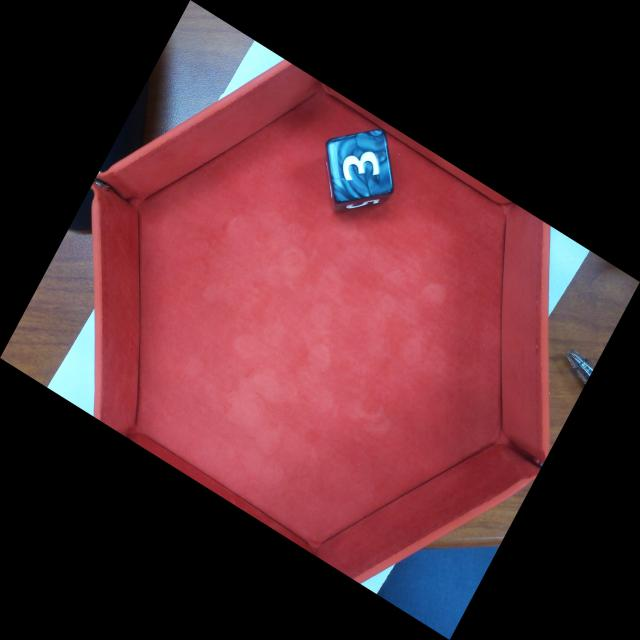dice: (327, 129, 393, 203)
